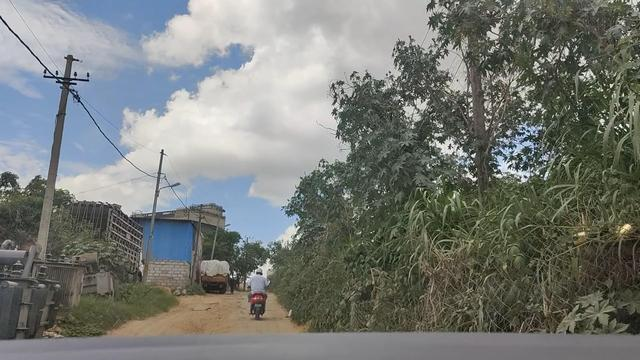HMV: (198, 256, 232, 296)
UnsurfacedRoad: (163, 299, 245, 332)
